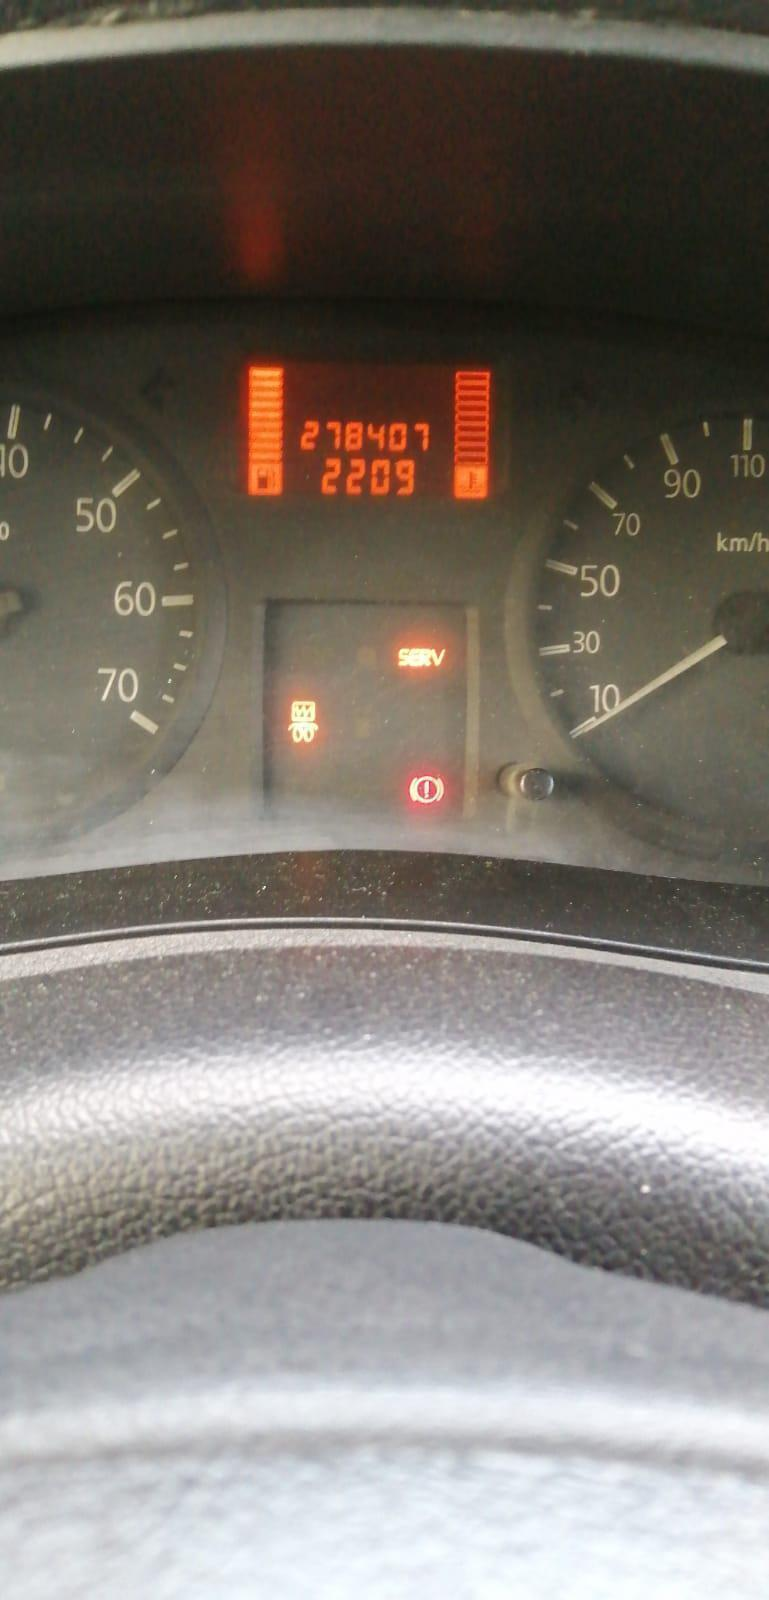0: (369, 458, 391, 494), (388, 422, 408, 450)
2: (344, 457, 366, 495), (320, 457, 342, 493), (299, 420, 319, 450)
4: (367, 422, 385, 449)
7: (414, 423, 430, 450), (325, 421, 341, 449)
8: (344, 422, 363, 450)
9: (395, 458, 415, 495)
odometer: (232, 351, 516, 510)
